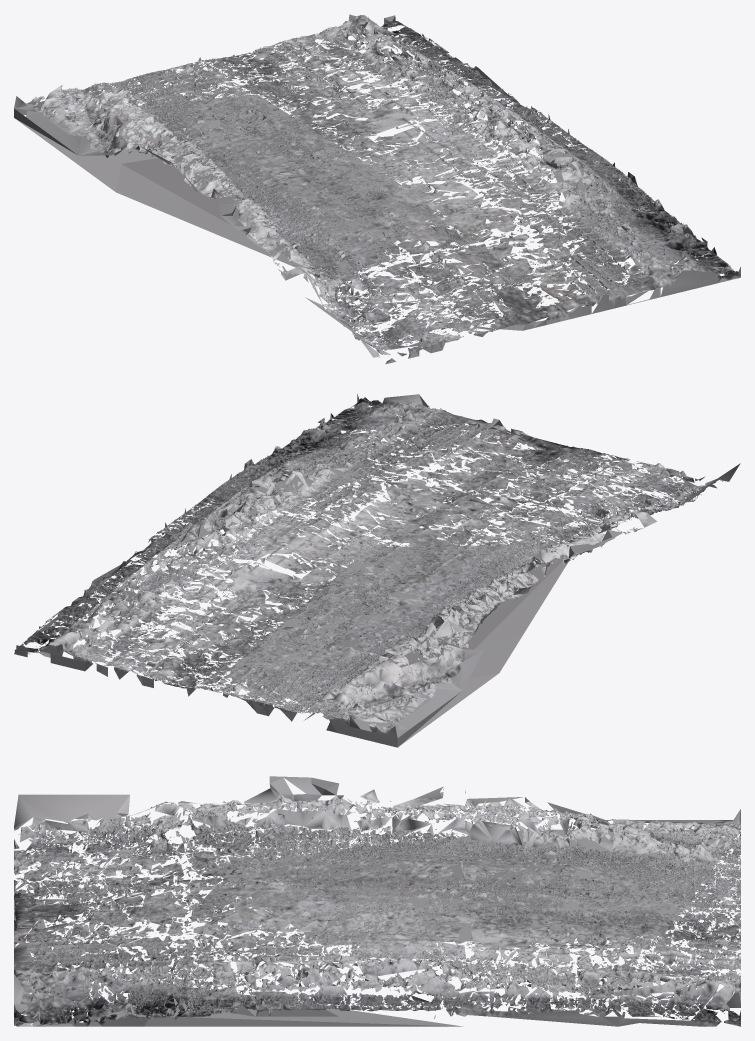
The model's file is strada-innevata.glb.
3 renders of one model, top to bottom at view 1: azimuth 30°, elevation 25°; view 2: azimuth 150°, elevation 25°; view 3: azimuth 270°, elevation 25°, orthographic. The views are drawn at different scales.
Parts seen in each view (by area): view 1: Object_3, Object_2, Object_13, Object_7, Object_8, Object_18, Object_4, Object_19, Object_12, Object_11, Object_5, Object_10 (+25 smaller); view 2: Object_3, Object_11, Object_2, Object_13, Object_6, Object_4, Object_12, Object_7, Object_10, Object_5, Object_15, Object_22 (+25 smaller); view 3: Object_3, Object_2, Object_18, Object_5, Object_19, Object_13, Object_29, Object_7, Object_22, Object_11, Object_4, Object_6 (+25 smaller).
Boxes of the visible parts, <box> form: Object_3: <box>16,94,733,327</box>; Object_2: <box>541,211,740,313</box>; Object_13: <box>27,96,518,253</box>; Object_7: <box>315,14,599,336</box>; Object_8: <box>407,234,596,330</box>; Object_18: <box>305,264,476,357</box>; Object_4: <box>342,119,497,183</box>; Object_19: <box>221,198,473,356</box>; Object_12: <box>14,82,190,155</box>; Object_11: <box>41,83,440,157</box>; Object_5: <box>307,20,508,183</box>; Object_10: <box>288,87,449,145</box>; Object_3: <box>153,405,582,746</box>; Object_11: <box>178,559,484,722</box>; Object_2: <box>285,394,506,467</box>; Object_13: <box>333,478,520,734</box>; Object_6: <box>14,584,170,671</box>; Object_4: <box>230,514,389,585</box>; Object_12: <box>305,640,461,747</box>; Object_7: <box>27,425,628,663</box>; Object_10: <box>179,556,337,625</box>; Object_5: <box>23,517,393,676</box>; Object_15: <box>103,505,463,687</box>; Object_22: <box>307,527,595,644</box>; Object_3: <box>14,829,740,1026</box>; Object_2: <box>14,935,180,1026</box>; Object_18: <box>14,794,186,882</box>; Object_5: <box>350,901,724,1026</box>; Object_19: <box>14,776,353,880</box>; Object_13: <box>189,811,740,939</box>; Object_29: <box>351,957,576,1018</box>; Object_7: <box>14,865,740,1019</box>; Object_22: <box>235,797,569,905</box>; Object_11: <box>467,802,740,963</box>; Object_4: <box>335,900,481,961</box>; Object_6: <box>576,963,740,1026</box>.
Bounding box in the file's own units: 18.66 × 2.36 × 29.11.
1 material, 1 textured.
